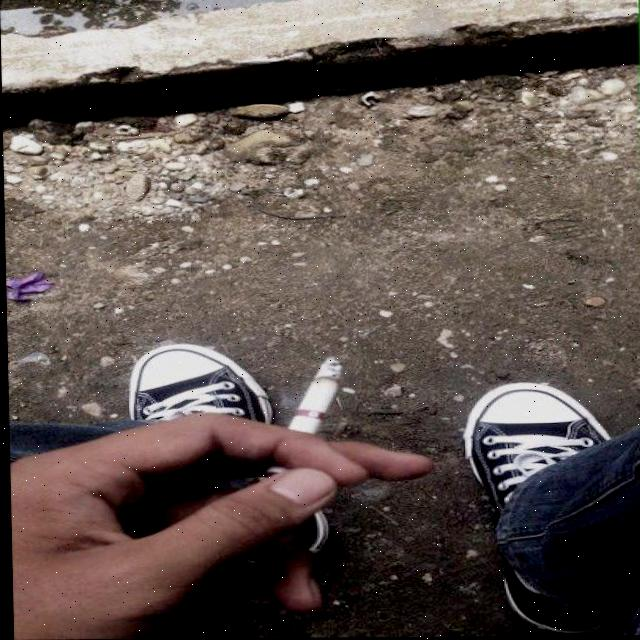cigarette: (281, 355, 343, 435)
